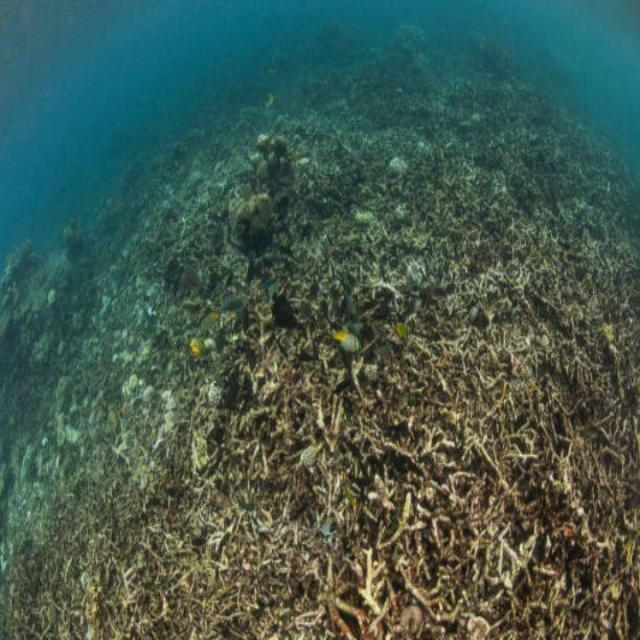Dead Coral: (34, 177, 619, 623)
